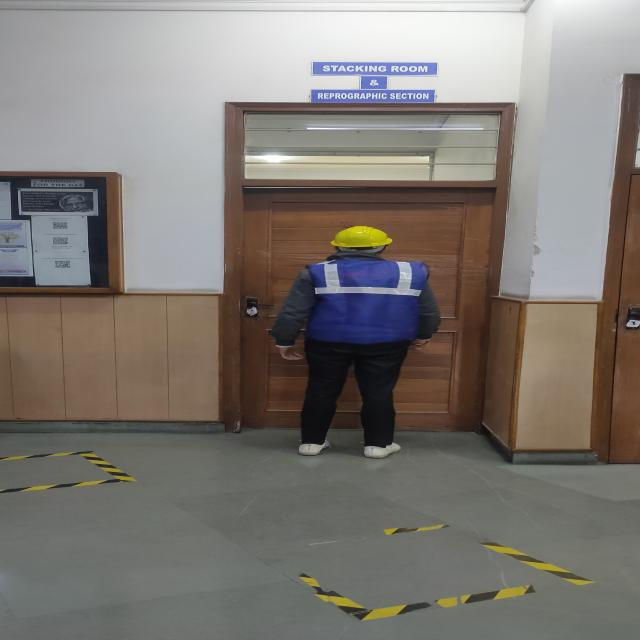safe: (272, 227, 439, 458)
